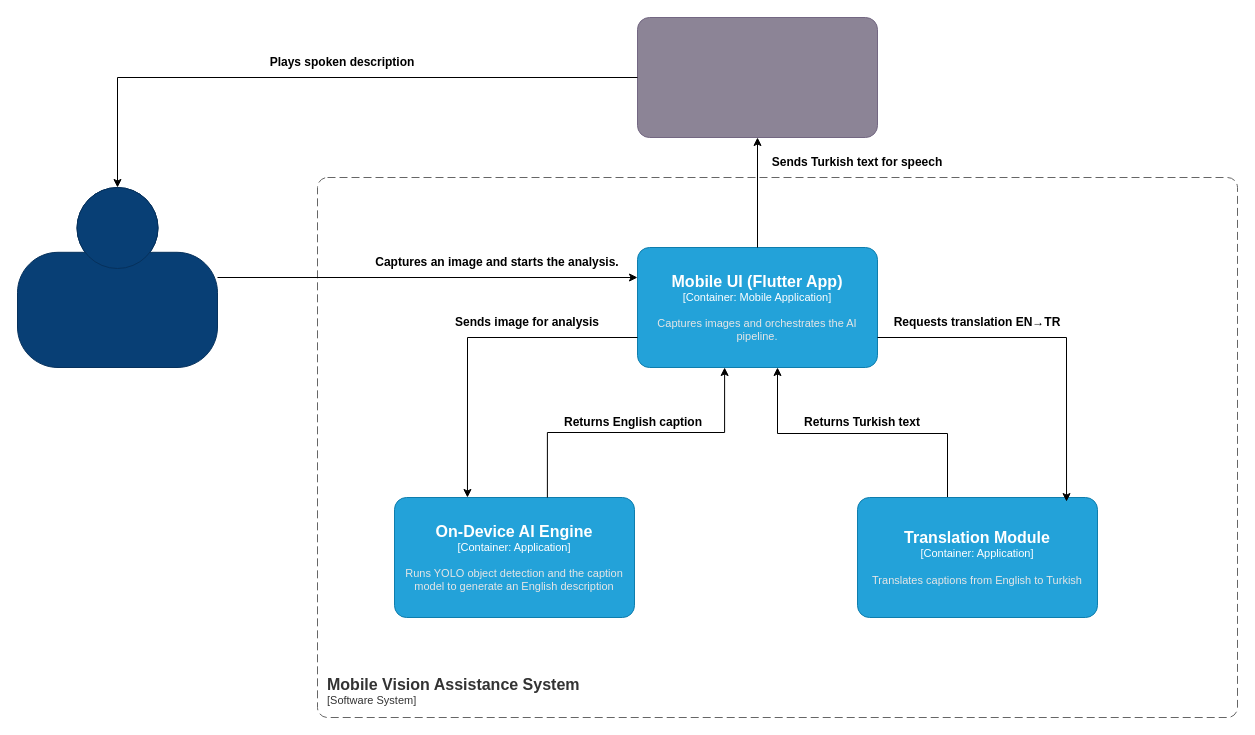
Some shapes in this 1255 by 735 pixel diagram are drawn without their labels. Each missing label, with the centre of its shape:
TTS Engine (Device TTS) [External System] Converts Turkish text into speech: pixel 757 77
Visually Impaired User [User]: pixel 117 277
